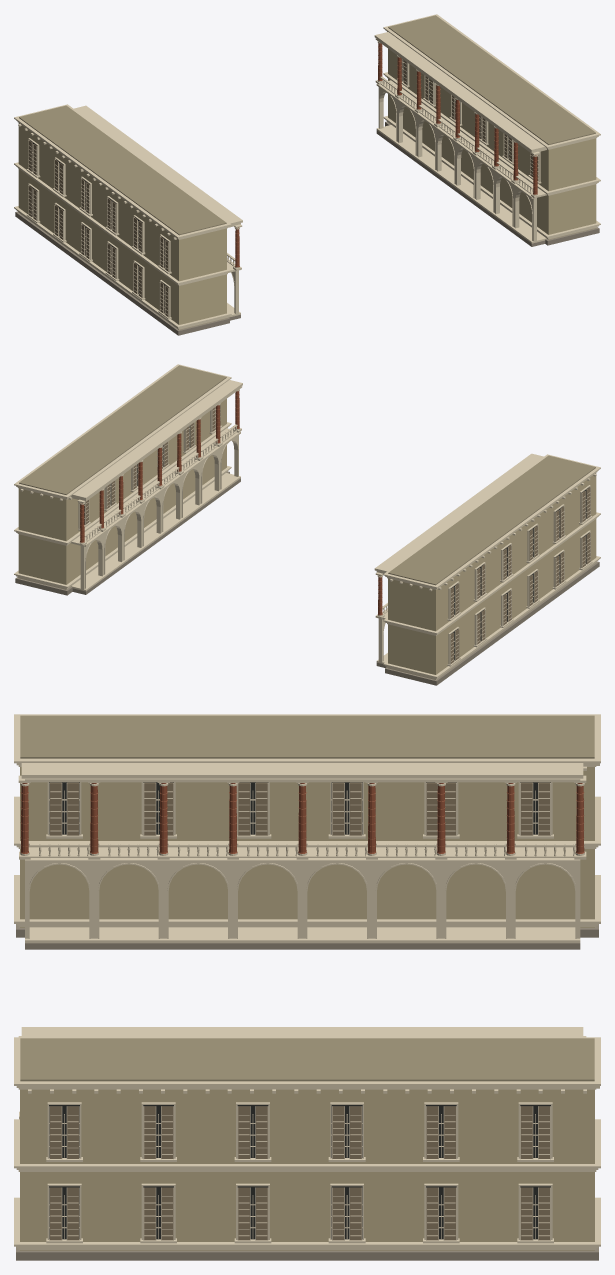
File: KOL_T1_RAJBARI__02_Side_Wings.fbx
The picture shows the model from 3 angles, top to bottom: view 1: azimuth 30°, elevation 25°; view 2: azimuth 150°, elevation 25°; view 3: azimuth 270°, elevation 25°; orthographic projection. The views are drawn at different scales.
Parts seen in each view (by area): view 1: KOL_T1_RAJBARI__02_Side_Wings__KOL_T1_EstatePlaster, KOL_T1_RAJBARI__02_Side_Wings__KOL_T1_EstateRoof, KOL_T1_RAJBARI__02_Side_Wings__KOL_T1_EstateIvory.002, KOL_T1_RAJBARI__02_Side_Wings__KOL_T1_EstateIvory, KOL_T1_RAJBARI__02_Side_Wings__KOL_T1_EstateTaupe, KOL_T1_RAJBARI__02_Side_Wings__KOL_T1_EstateIvory.001, KOL_T1_RAJBARI__02_Side_Wings__KOL_T1_EstateStone, KOL_T1_RAJBARI__02_Side_Wings__KOL_T1_EstateIvory.003, KOL_T1_RAJBARI__02_Side_Wings__KOL_T1_EstateBrick, KOL_T1_RAJBARI__02_Side_Wings__KOL_T1_EstateIvory.004, KOL_T1_RAJBARI__02_Side_Wings__KOL_T1_HeritageDark; view 2: KOL_T1_RAJBARI__02_Side_Wings__KOL_T1_EstatePlaster, KOL_T1_RAJBARI__02_Side_Wings__KOL_T1_EstateRoof, KOL_T1_RAJBARI__02_Side_Wings__KOL_T1_EstateIvory.002, KOL_T1_RAJBARI__02_Side_Wings__KOL_T1_EstateIvory, KOL_T1_RAJBARI__02_Side_Wings__KOL_T1_EstateTaupe, KOL_T1_RAJBARI__02_Side_Wings__KOL_T1_EstateIvory.001, KOL_T1_RAJBARI__02_Side_Wings__KOL_T1_EstateStone, KOL_T1_RAJBARI__02_Side_Wings__KOL_T1_EstateIvory.003, KOL_T1_RAJBARI__02_Side_Wings__KOL_T1_EstateBrick, KOL_T1_RAJBARI__02_Side_Wings__KOL_T1_EstateIvory.004, KOL_T1_RAJBARI__02_Side_Wings__KOL_T1_HeritageDark; view 3: KOL_T1_RAJBARI__02_Side_Wings__KOL_T1_EstatePlaster, KOL_T1_RAJBARI__02_Side_Wings__KOL_T1_EstateIvory, KOL_T1_RAJBARI__02_Side_Wings__KOL_T1_EstateRoof, KOL_T1_RAJBARI__02_Side_Wings__KOL_T1_EstateIvory.002, KOL_T1_RAJBARI__02_Side_Wings__KOL_T1_EstateTaupe, KOL_T1_RAJBARI__02_Side_Wings__KOL_T1_EstateStone, KOL_T1_RAJBARI__02_Side_Wings__KOL_T1_EstateIvory.004, KOL_T1_RAJBARI__02_Side_Wings__KOL_T1_EstateIvory.003, KOL_T1_RAJBARI__02_Side_Wings__KOL_T1_HeritageDark, KOL_T1_RAJBARI__02_Side_Wings__KOL_T1_EstateBrick, KOL_T1_RAJBARI__02_Side_Wings__KOL_T1_EstateIvory.001, KOL_T1_RAJBARI__02_Side_Wings__KOL_T1_EstateBrickLight.
Part boxes in pixels (x1,y1,x2,y2): KOL_T1_RAJBARI__02_Side_Wings__KOL_T1_EstatePlaster: [18, 49, 596, 329]; KOL_T1_RAJBARI__02_Side_Wings__KOL_T1_EstateRoof: [19, 15, 595, 235]; KOL_T1_RAJBARI__02_Side_Wings__KOL_T1_EstateIvory.002: [132, 14, 600, 319]; KOL_T1_RAJBARI__02_Side_Wings__KOL_T1_EstateIvory: [14, 104, 242, 329]; KOL_T1_RAJBARI__02_Side_Wings__KOL_T1_EstateTaupe: [28, 59, 538, 316]; KOL_T1_RAJBARI__02_Side_Wings__KOL_T1_EstateIvory.001: [26, 138, 242, 300]; KOL_T1_RAJBARI__02_Side_Wings__KOL_T1_EstateStone: [15, 121, 599, 335]; KOL_T1_RAJBARI__02_Side_Wings__KOL_T1_EstateIvory.003: [375, 38, 539, 198]; KOL_T1_RAJBARI__02_Side_Wings__KOL_T1_EstateBrick: [235, 43, 537, 267]; KOL_T1_RAJBARI__02_Side_Wings__KOL_T1_EstateIvory.004: [449, 95, 541, 183]; KOL_T1_RAJBARI__02_Side_Wings__KOL_T1_HeritageDark: [30, 59, 508, 312]; KOL_T1_RAJBARI__02_Side_Wings__KOL_T1_EstatePlaster: [18, 399, 596, 679]; KOL_T1_RAJBARI__02_Side_Wings__KOL_T1_EstateRoof: [19, 365, 595, 585]; KOL_T1_RAJBARI__02_Side_Wings__KOL_T1_EstateIvory.002: [14, 364, 592, 591]; KOL_T1_RAJBARI__02_Side_Wings__KOL_T1_EstateIvory: [374, 453, 600, 679]; KOL_T1_RAJBARI__02_Side_Wings__KOL_T1_EstateTaupe: [80, 405, 590, 663]; KOL_T1_RAJBARI__02_Side_Wings__KOL_T1_EstateIvory.001: [375, 505, 566, 666]; KOL_T1_RAJBARI__02_Side_Wings__KOL_T1_EstateStone: [15, 471, 599, 685]; KOL_T1_RAJBARI__02_Side_Wings__KOL_T1_EstateIvory.003: [77, 386, 242, 589]; KOL_T1_RAJBARI__02_Side_Wings__KOL_T1_EstateBrick: [80, 391, 382, 615]; KOL_T1_RAJBARI__02_Side_Wings__KOL_T1_EstateIvory.004: [130, 405, 222, 492]; KOL_T1_RAJBARI__02_Side_Wings__KOL_T1_HeritageDark: [84, 426, 589, 660]; KOL_T1_RAJBARI__02_Side_Wings__KOL_T1_EstatePlaster: [20, 767, 594, 1250]; KOL_T1_RAJBARI__02_Side_Wings__KOL_T1_EstateIvory: [14, 714, 600, 943]; KOL_T1_RAJBARI__02_Side_Wings__KOL_T1_EstateRoof: [20, 715, 594, 1081]; KOL_T1_RAJBARI__02_Side_Wings__KOL_T1_EstateIvory.002: [14, 782, 600, 1249]; KOL_T1_RAJBARI__02_Side_Wings__KOL_T1_EstateTaupe: [50, 782, 550, 1240]; KOL_T1_RAJBARI__02_Side_Wings__KOL_T1_EstateStone: [16, 924, 598, 1260]; KOL_T1_RAJBARI__02_Side_Wings__KOL_T1_EstateIvory.004: [46, 1102, 271, 1243]; KOL_T1_RAJBARI__02_Side_Wings__KOL_T1_EstateIvory.003: [18, 1036, 586, 1243]; KOL_T1_RAJBARI__02_Side_Wings__KOL_T1_HeritageDark: [49, 782, 550, 1239]; KOL_T1_RAJBARI__02_Side_Wings__KOL_T1_EstateBrick: [20, 783, 584, 853]; KOL_T1_RAJBARI__02_Side_Wings__KOL_T1_EstateIvory.001: [18, 775, 586, 859]; KOL_T1_RAJBARI__02_Side_Wings__KOL_T1_EstateBrickLight: [20, 792, 584, 846].
Size of the model in its own units: 177 by 39.8 by 118.
